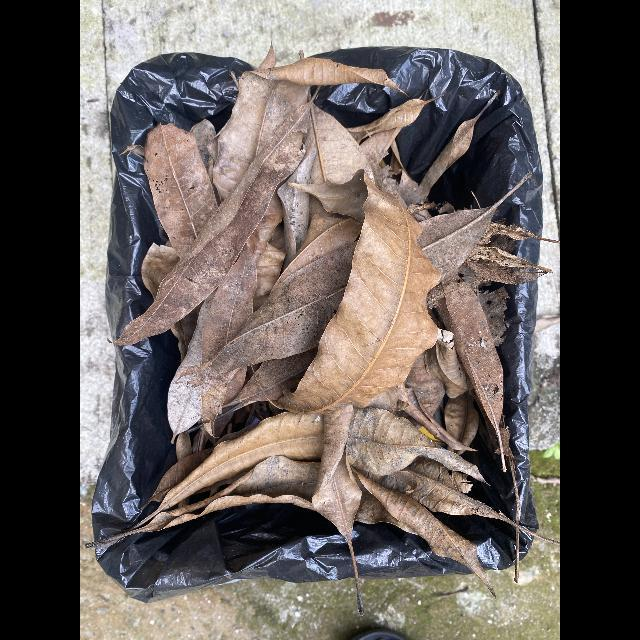biowaste: (176, 172, 533, 380), (84, 456, 497, 599), (108, 86, 320, 348), (267, 166, 443, 413), (208, 56, 408, 202), (132, 412, 325, 529), (429, 275, 508, 472), (311, 405, 365, 616), (348, 408, 490, 487), (202, 245, 258, 439), (298, 50, 375, 185), (143, 123, 218, 254)
